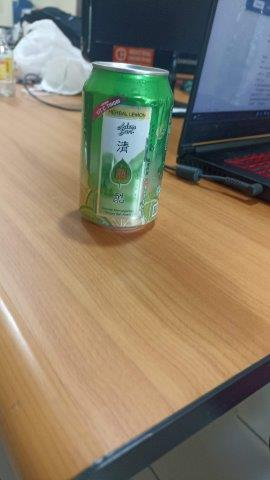kaleng: (82, 62, 171, 232)
